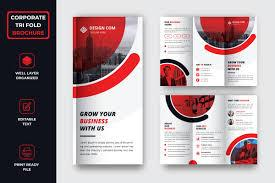paper: (159, 9, 261, 177), (72, 14, 144, 172)
